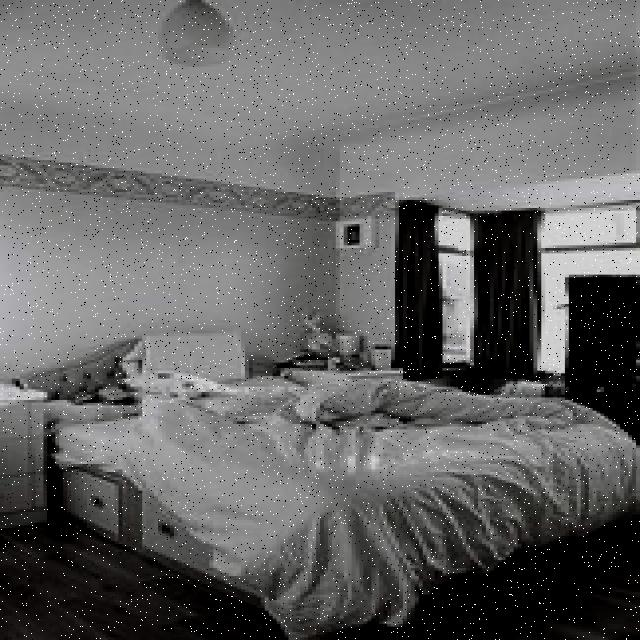bed: (23, 320, 619, 591)
